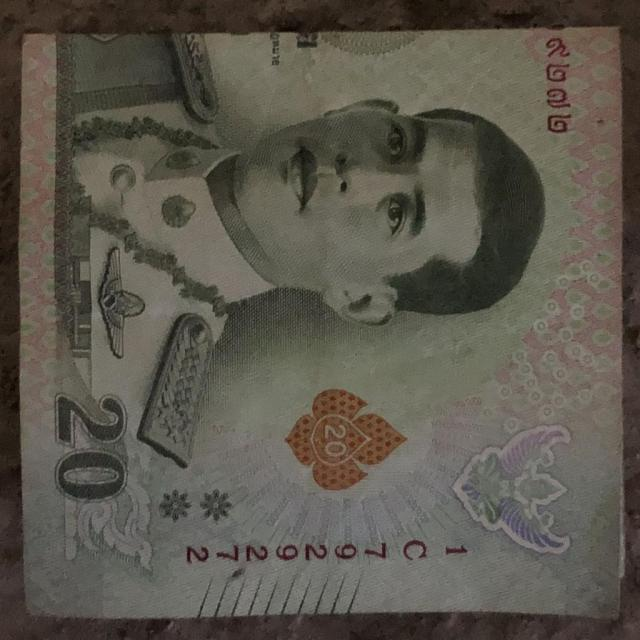THAI20: (18, 28, 625, 624)
